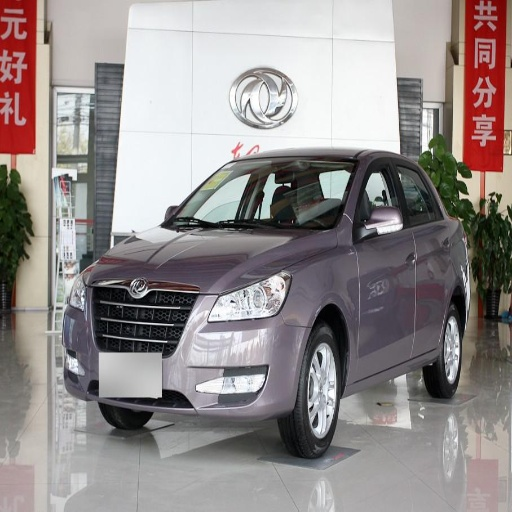front_bumper: (63, 270, 310, 430)
front_glass: (162, 158, 355, 229)
front_left_door: (354, 156, 417, 376)
